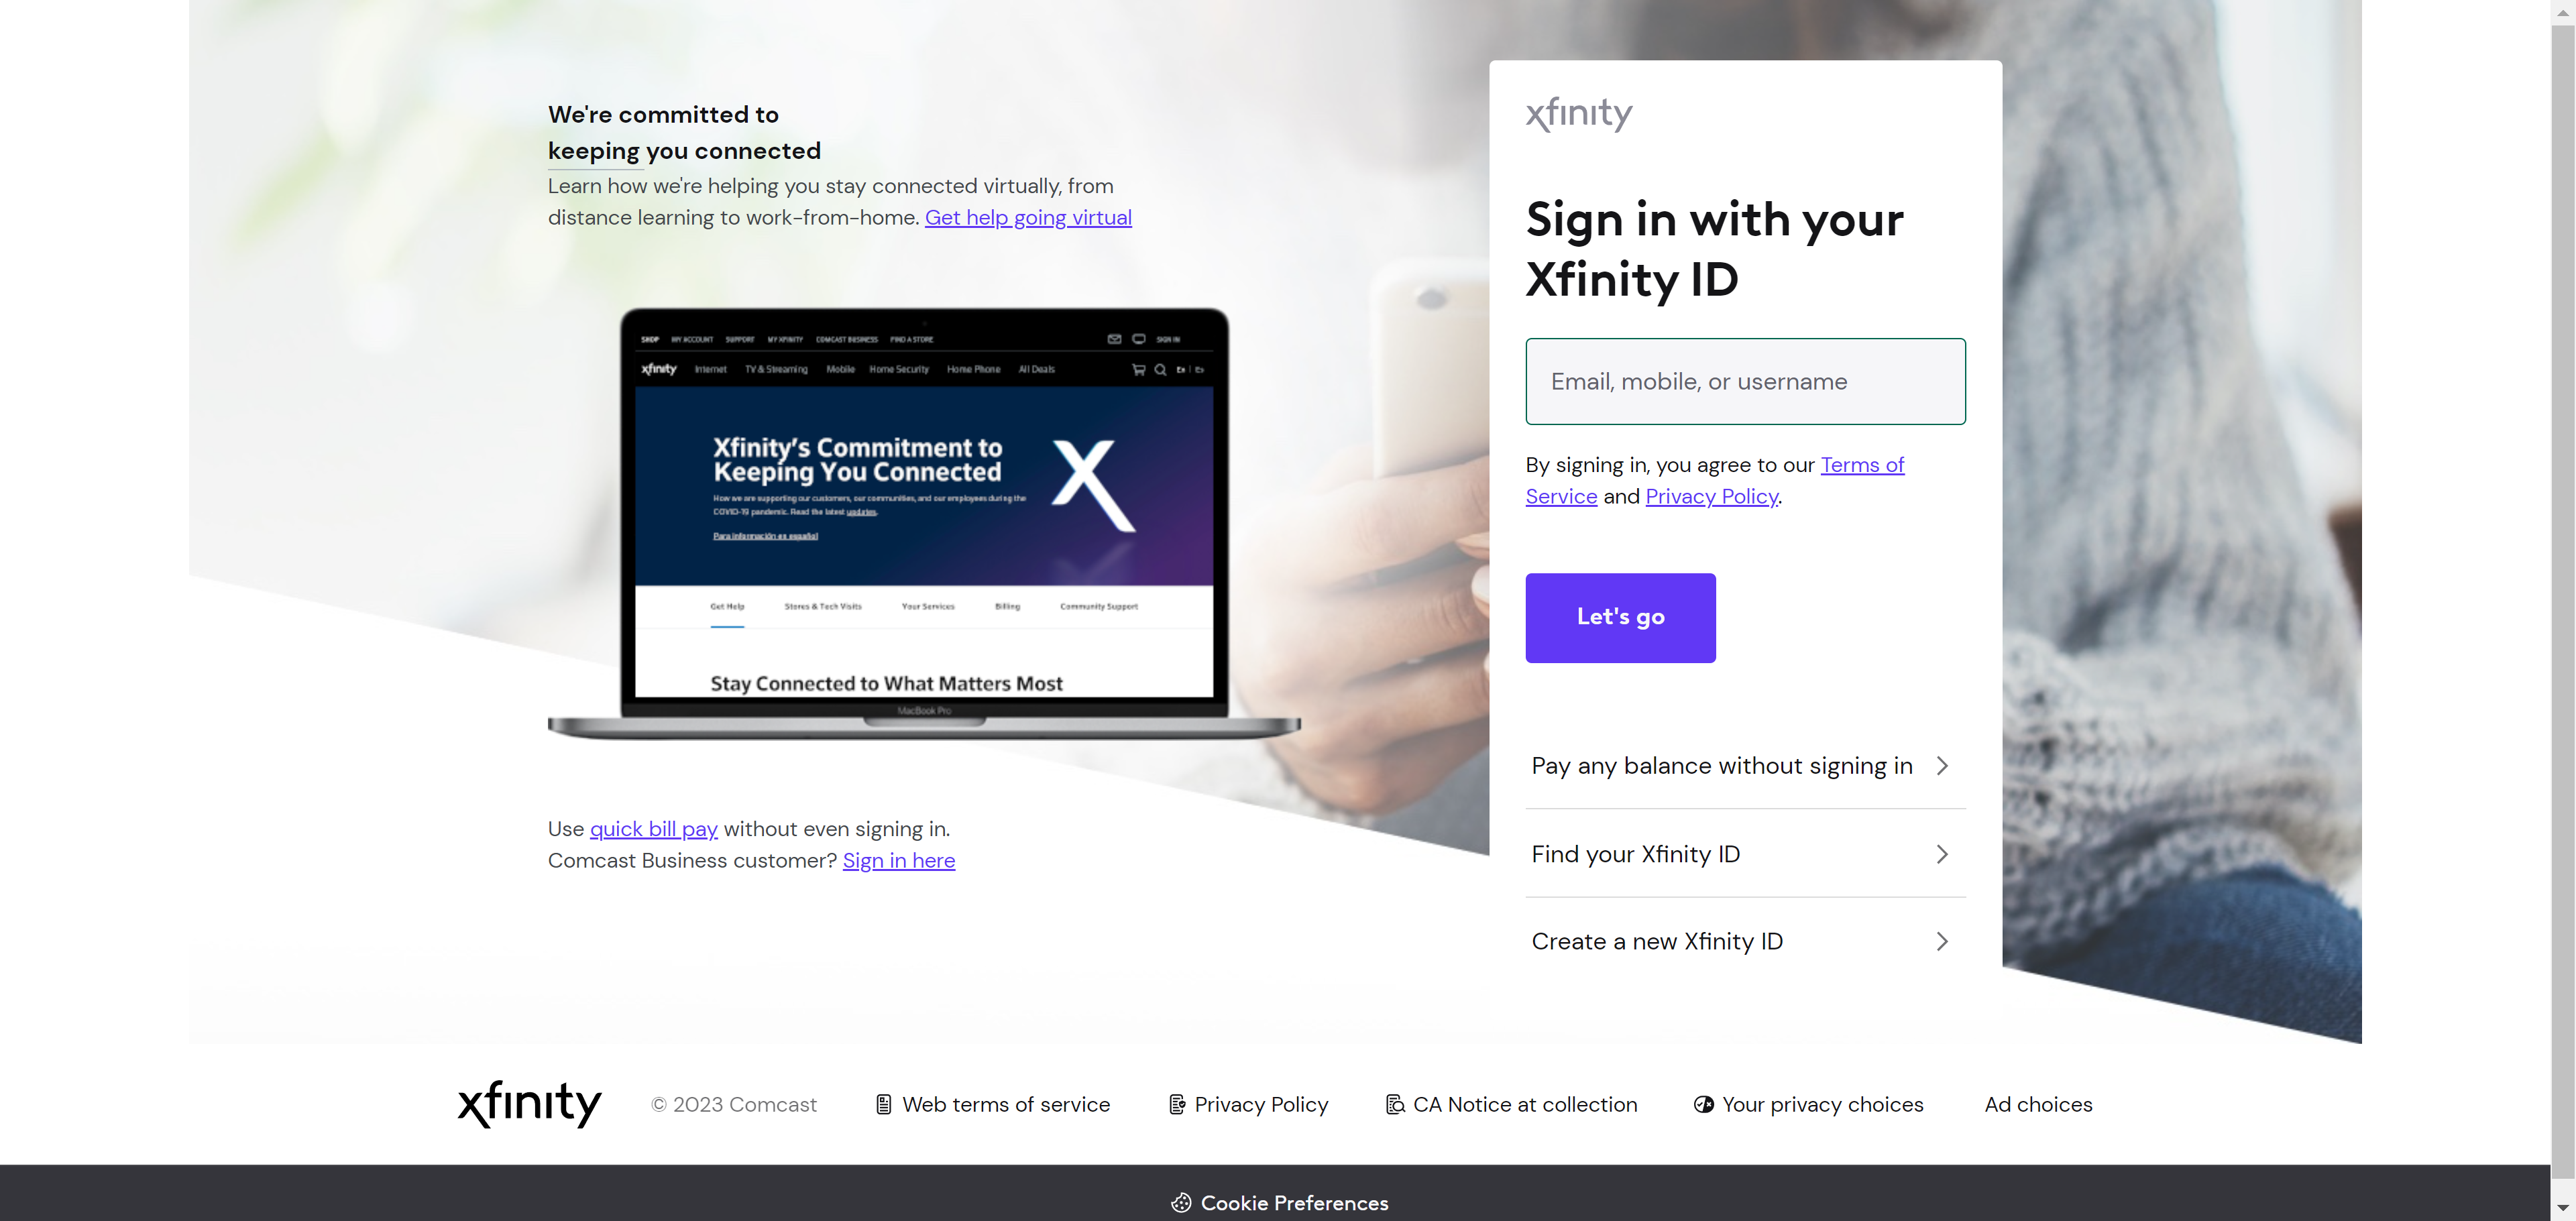login_button: (1526, 574, 1717, 664)
login_form: (1516, 329, 1975, 670)
